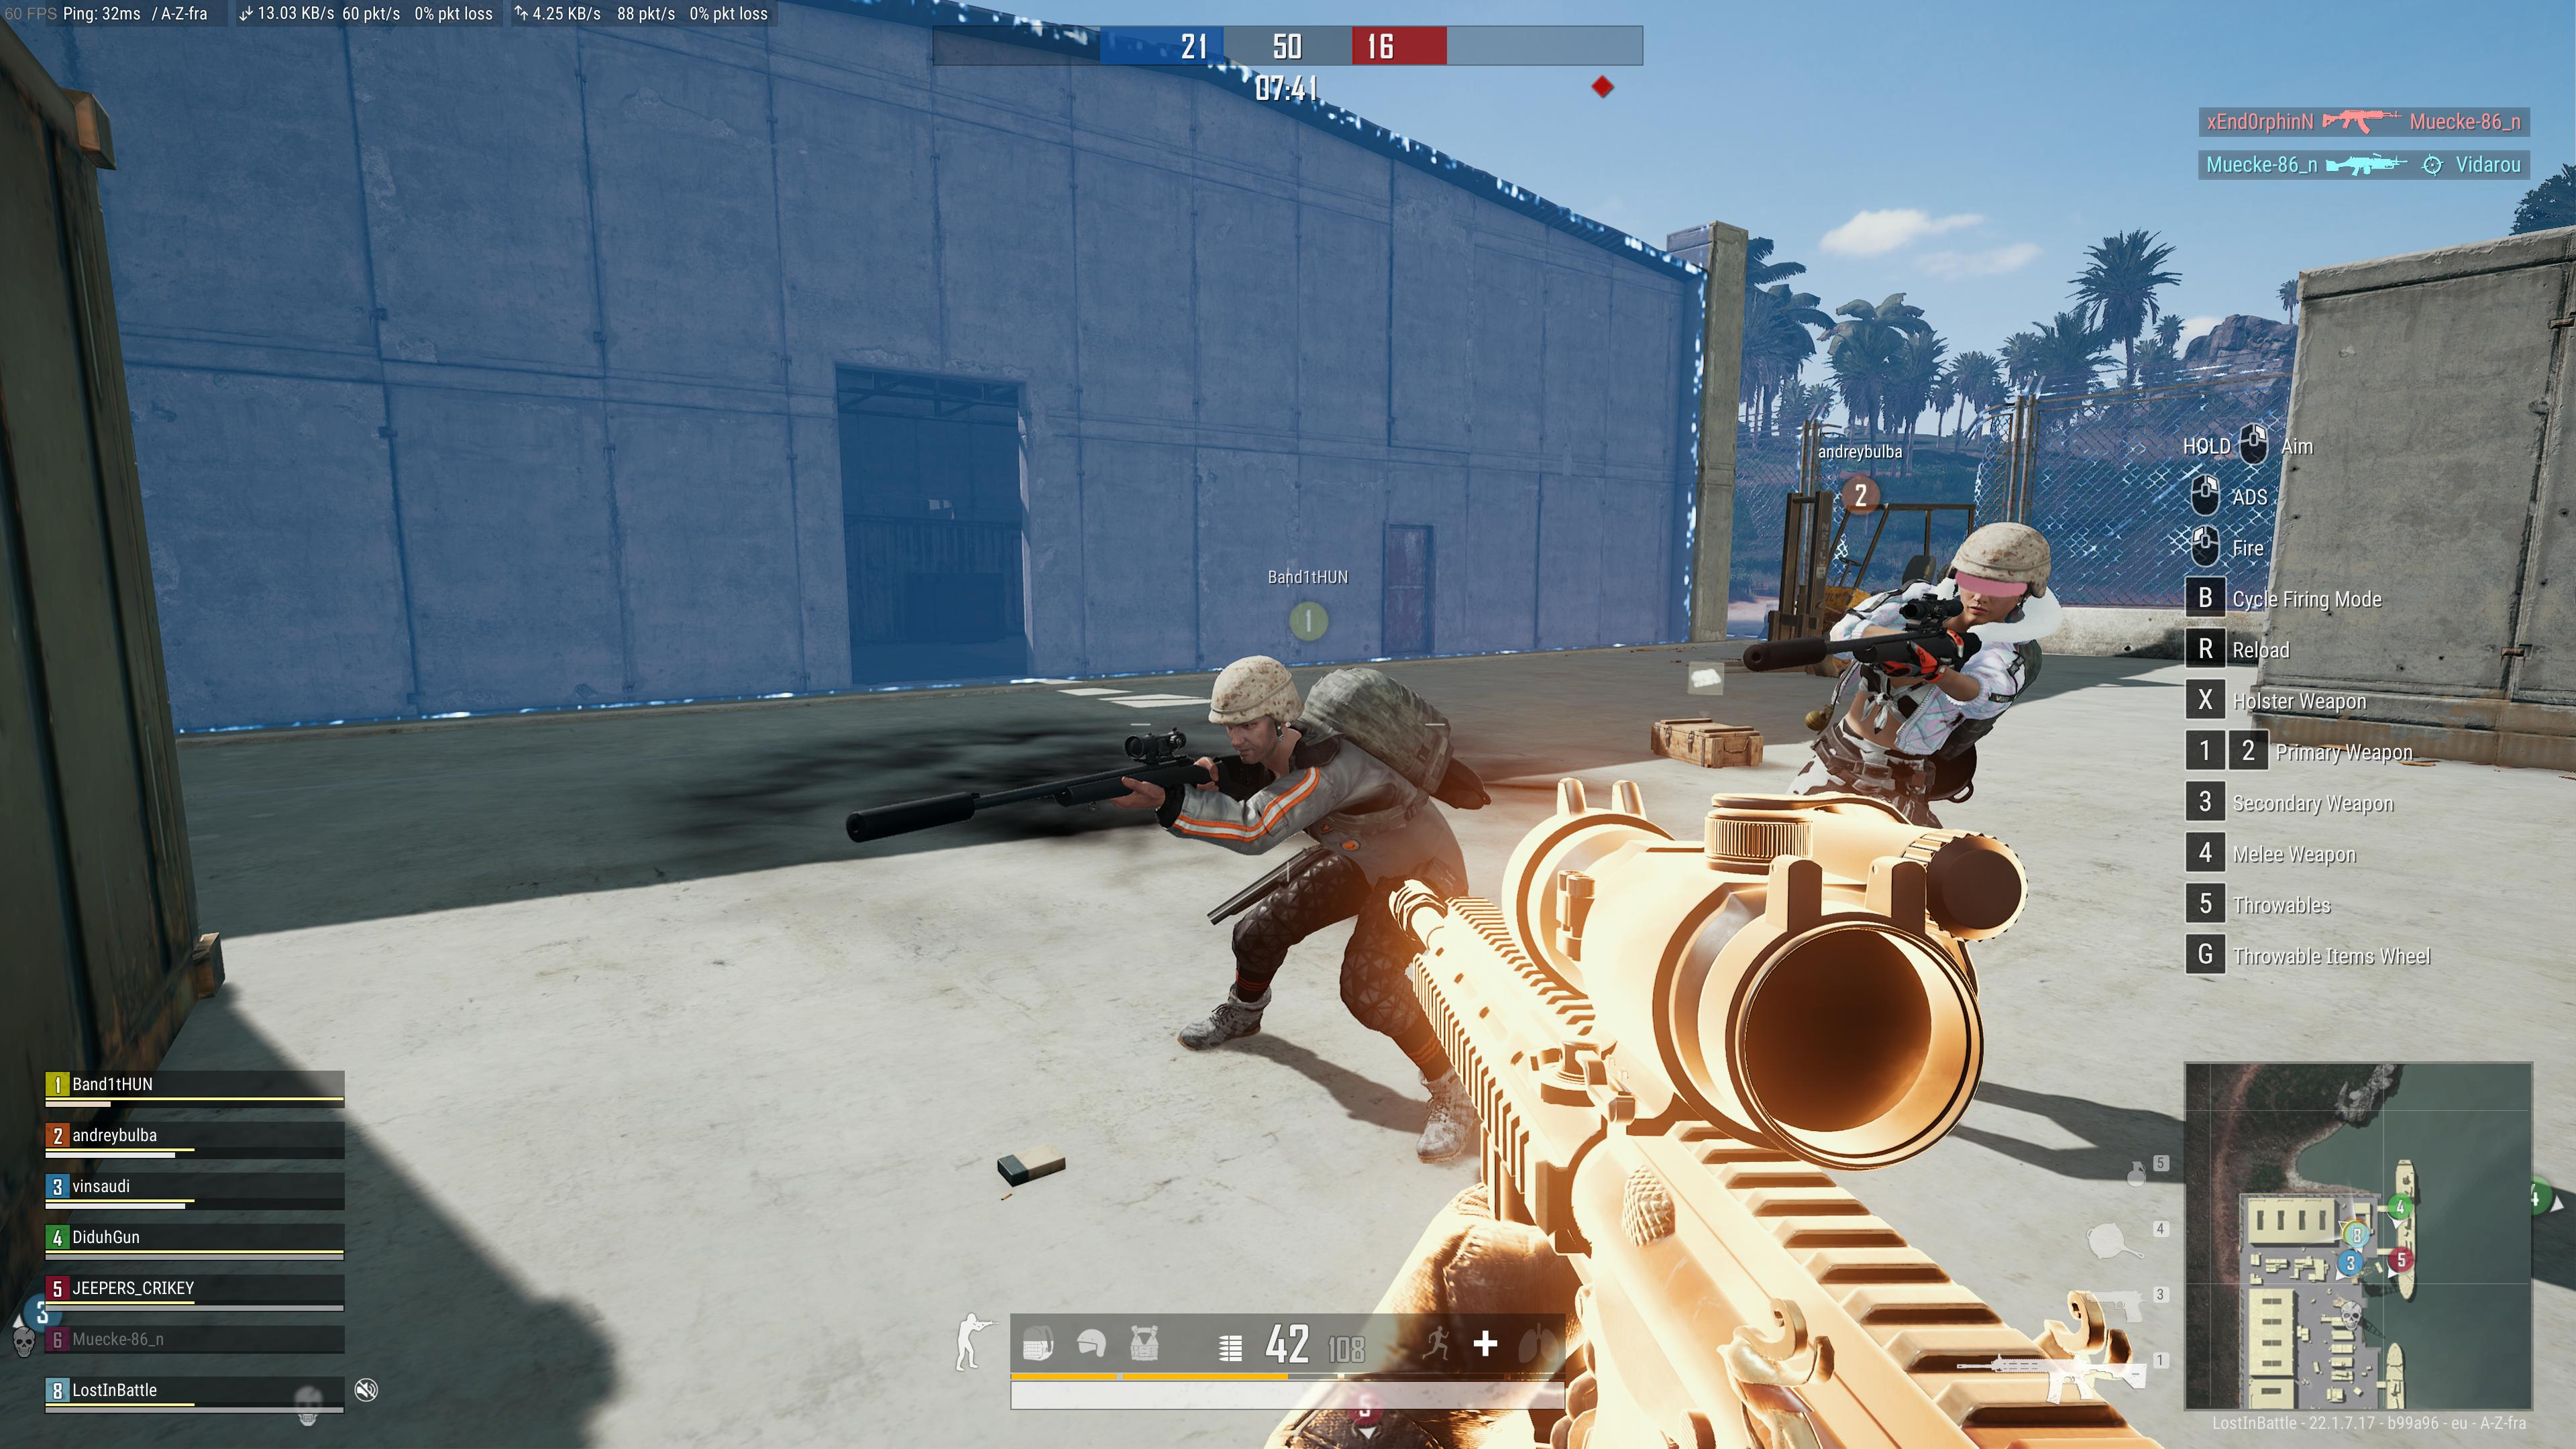friendly: (1102, 609, 1536, 1169), (1718, 487, 2061, 810)
